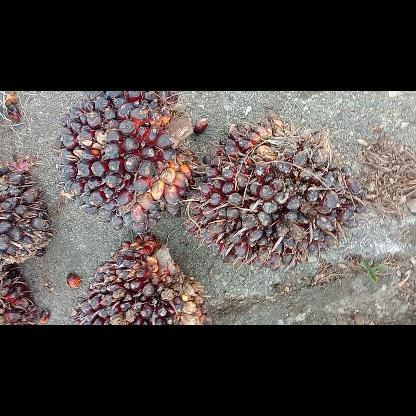TBS mentah: (187, 112, 363, 270), (54, 91, 198, 233), (77, 234, 207, 324), (0, 160, 51, 268)
